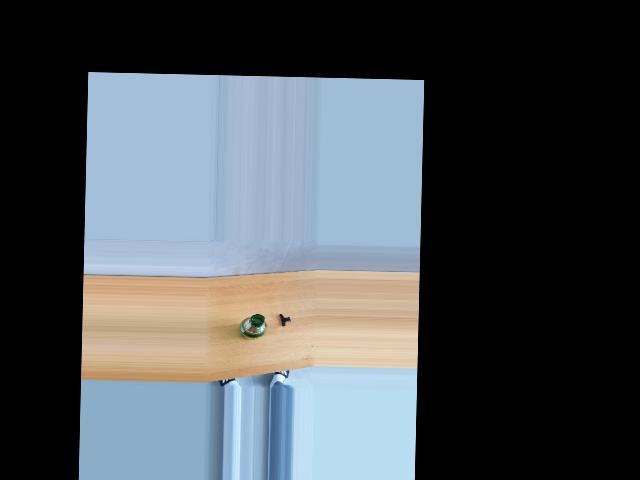beer: (239, 314, 268, 340)
